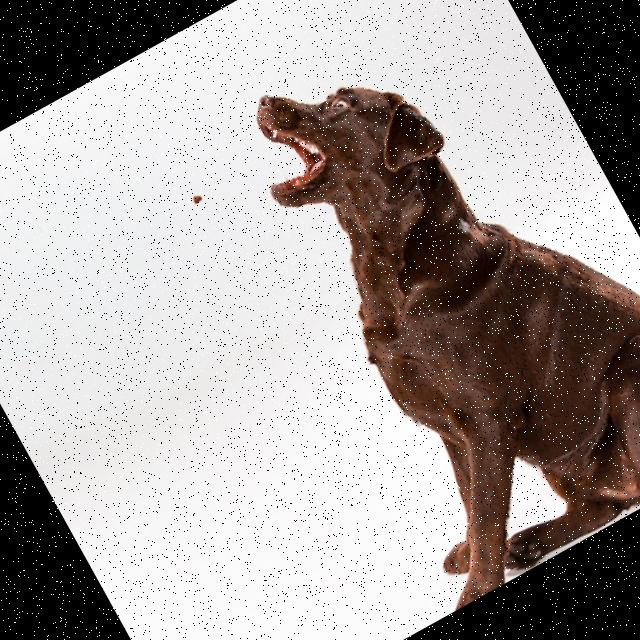Dog: (185, 0, 640, 613)
